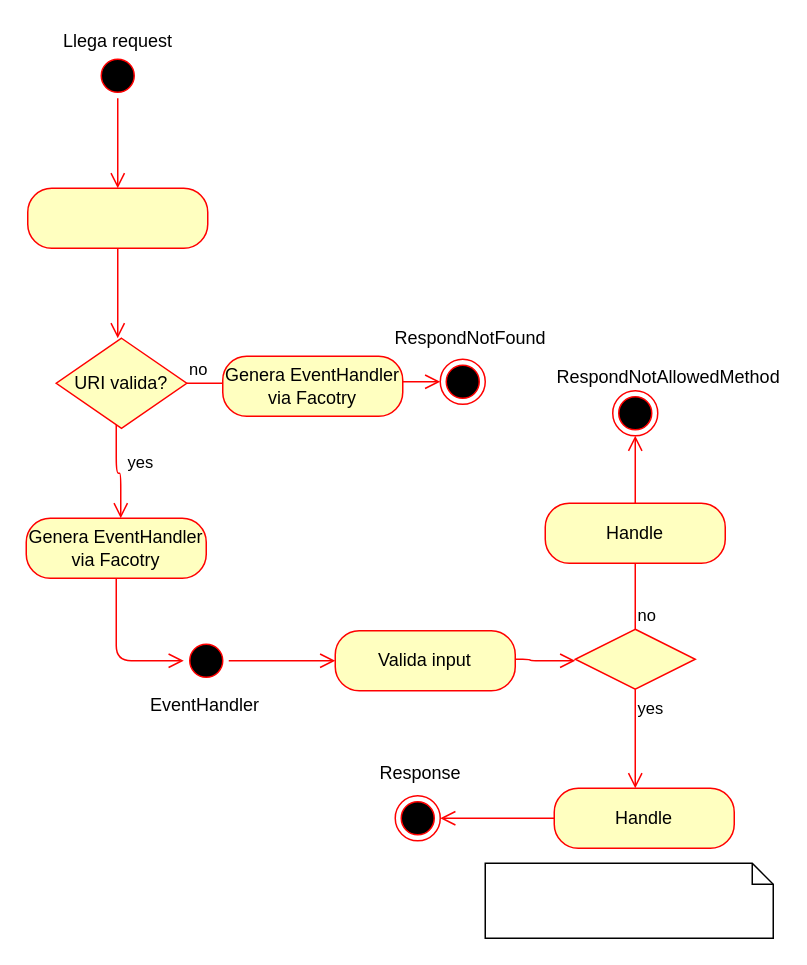
Image size: 807x965. Some labels were removed from this diagram. Here are the shapes that lost their labels. From the top down, the centre of each, then its label:
At [117,217]: "Server".
At [634,658]: "Valido?".
At [628,900]: "Handle utiliza el Manager para dar ABM a la base de datos entre otras acciones".
